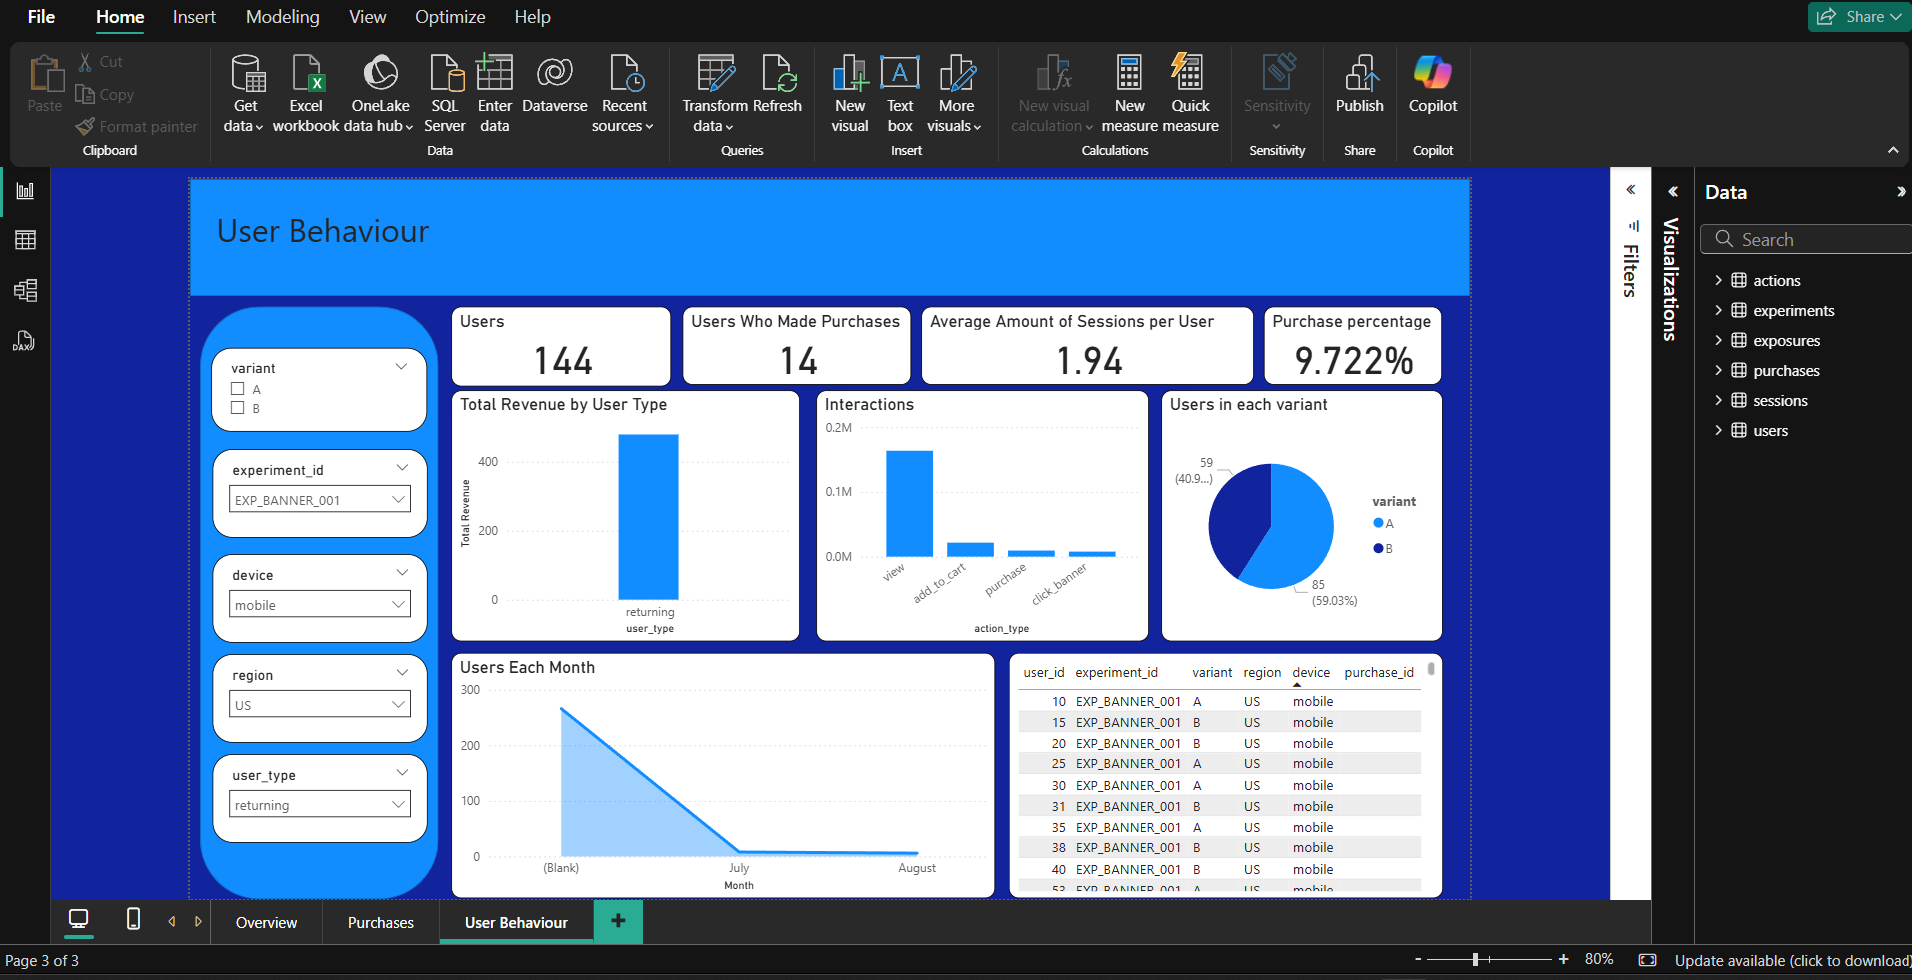

The dashboard page shown, as its layout file describes it:
{"tool":"powerbi","page":{"name":"User Behaviour","canvas":[1280,720],"ordinal":2},"visuals":[{"type":"areaChart","title":"Users Each Month","fields":{"Category":["purchases.purchase_ts.Variation.Date Hierarchy.Month","purchases.purchase_ts.Variation.Date Hierarchy.Day"],"Y":["CountNonNull(sessions.user_id)"]},"box":[261.4,474.3,544.3,245.7],"z":0},{"type":"card","title":"Purchase percentage","fields":{"Values":["actions.Purchase Conversion %"]},"box":[1074.3,127.1,178.6,78.6],"z":1000},{"type":"card","title":"Users","fields":{"Values":["Count(users.user_id)"]},"box":[261.4,127.1,220,80],"z":2000},{"type":"tableEx","fields":{"Values":["users.user_id","exposures.experiment_id","exposures.variant","users.region","users.device","purchases.purchase_id"]},"box":[818.6,474.3,434.3,245.7],"z":3000},{"type":"card","title":"Average Amount of Sessions per User","fields":{"Values":["actions.Avg Sessions per User"]},"box":[731.4,127.1,332.9,78.6],"z":4000},{"type":"card","title":"Users Who Made Purchases","fields":{"Values":["actions.Users with Purchases"]},"box":[492.9,127.1,228.6,78.6],"z":5000},{"type":"pieChart","title":"Users in each variant","fields":{"Category":["exposures.variant"],"Y":["CountNonNull(exposures.user_id)"]},"box":[971.4,211.4,281.4,251.4],"z":6000},{"type":"columnChart","title":"Interactions","fields":{"Category":["actions.action_type"],"Y":["Sum(actions.sessions.user_id)"]},"box":[625.7,211.4,332.9,251.4],"z":7000},{"type":"shape","box":[10,127.1,238.6,592.9],"z":8000},{"type":"slicer","fields":{"Values":["exposures.variant"]},"box":[21.4,168.6,215.7,84.3],"z":9000},{"type":"slicer","fields":{"Values":["exposures.experiment_id"]},"box":[22,270.3,215.4,89.2],"z":10000},{"type":"slicer","fields":{"Values":["users.device"]},"box":[22,374.6,215.4,89.2],"z":11000},{"type":"slicer","fields":{"Values":["users.region"]},"box":[22,474.8,215.4,89.2],"z":12000},{"type":"slicer","fields":{"Values":["users.user_type"]},"box":[22,575,215.4,89.2],"z":13000},{"type":"shape","box":[0,0,1280,117.1],"z":14000},{"type":"textbox","box":[21.4,24.3,560,92.9],"z":15000},{"type":"clusteredColumnChart","title":"Total Revenue by User Type","fields":{"Category":["users.user_type"],"Y":["actions.Total Revenue"]},"box":[261.4,211.4,348.6,251.4],"z":16000}]}

Visuals, with their boxes on the page's 1280x720 design canvas (x1, y1, x2, y2). These are canvas units, not pixel positions in the 1912x980 screenshot, which may show the page scaled, cropped or inside an application window:
"Users Each Month" areaChart: crop(261, 474, 806, 720)
"Purchase percentage" card: crop(1074, 127, 1253, 206)
"Users" card: crop(261, 127, 481, 207)
tableEx - users.user_id x exposures.experiment_id: crop(819, 474, 1253, 720)
"Average Amount of Sessions per User" card: crop(731, 127, 1064, 206)
"Users Who Made Purchases" card: crop(493, 127, 722, 206)
"Users in each variant" pieChart: crop(971, 211, 1253, 463)
"Interactions" columnChart: crop(626, 211, 959, 463)
shape: crop(10, 127, 249, 720)
slicer - exposures.variant: crop(21, 169, 237, 253)
slicer - exposures.experiment_id: crop(22, 270, 237, 360)
slicer - users.device: crop(22, 375, 237, 464)
slicer - users.region: crop(22, 475, 237, 564)
slicer - users.user_type: crop(22, 575, 237, 664)
shape: crop(0, 0, 1280, 117)
textbox: crop(21, 24, 581, 117)
"Total Revenue by User Type" clusteredColumnChart: crop(261, 211, 610, 463)
